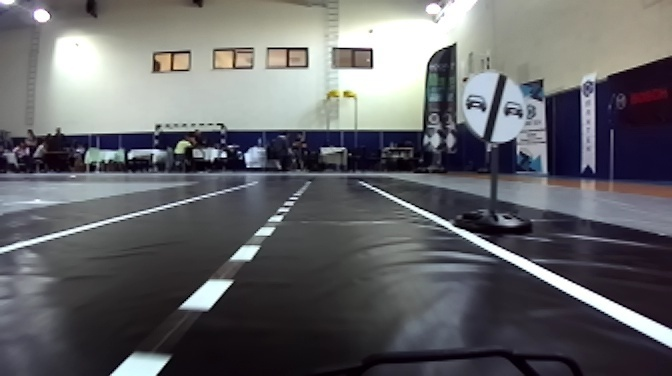sollama_serbest: (461, 69, 526, 143)
